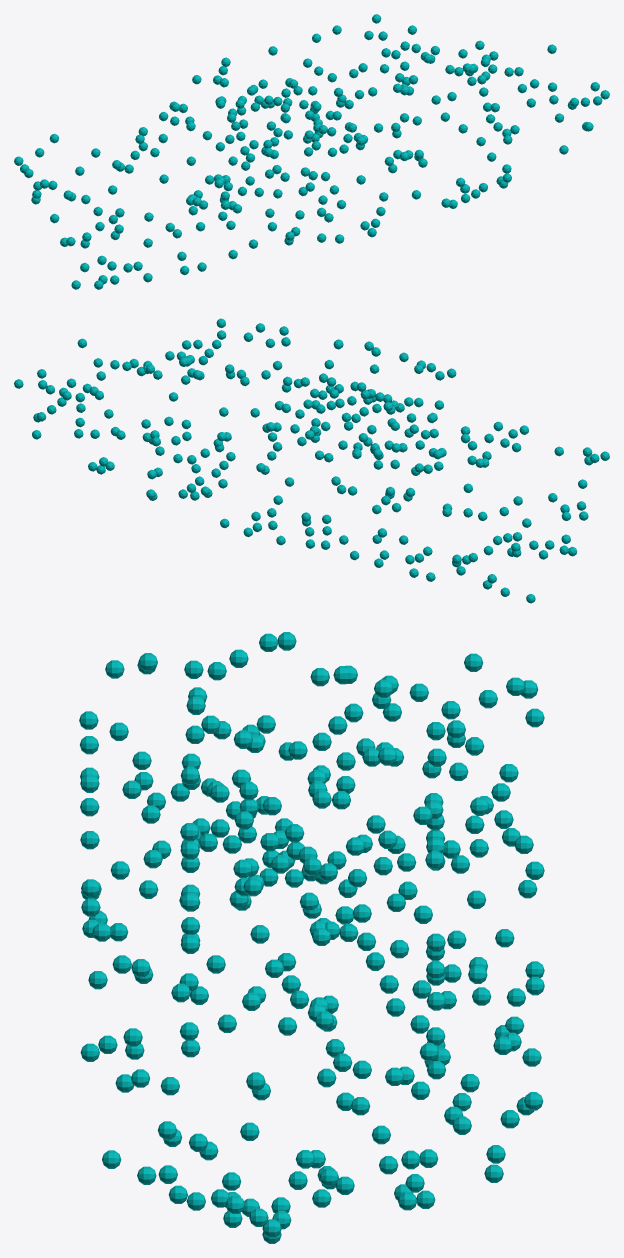
The picture shows the model from 3 angles, top to bottom: view 1: azimuth 30°, elevation 25°; view 2: azimuth 150°, elevation 25°; view 3: azimuth 270°, elevation 25°; orthographic projection. The views are drawn at different scales.
Size of the model in its own units: 1.01 by 0.3698 by 0.3826.
